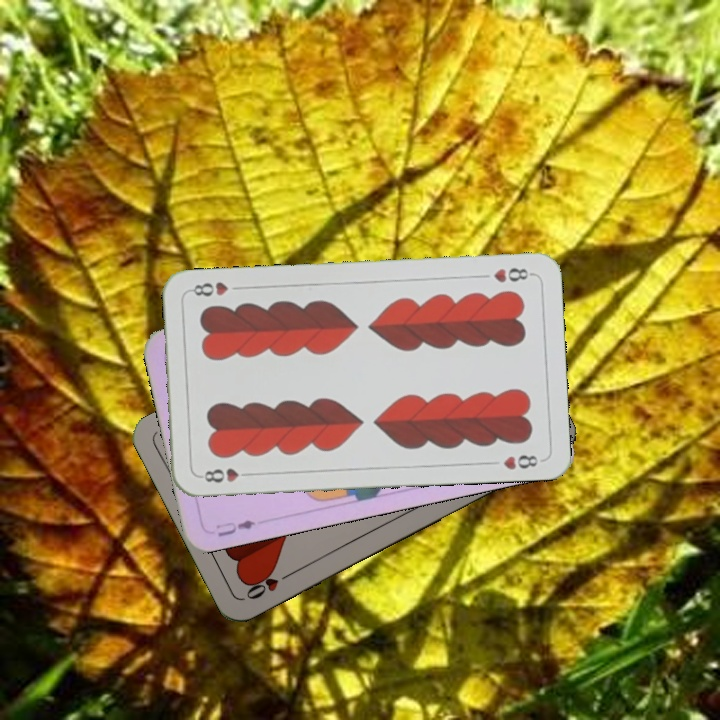EU: (212, 515, 258, 539)
H8: (196, 464, 255, 485), (489, 264, 535, 286)
HO: (241, 568, 295, 602)
